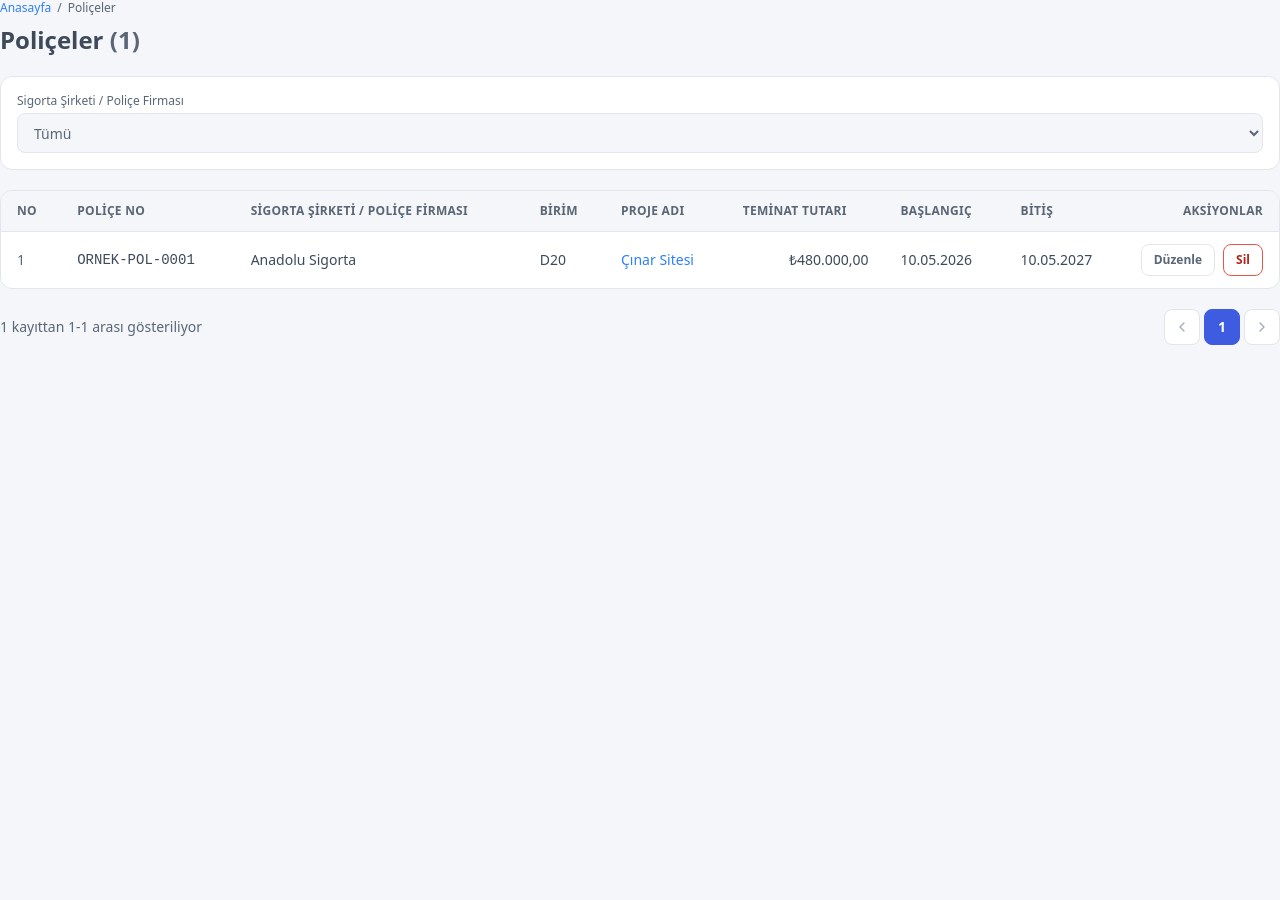
Test: poliçe güncelleme › düzenleme diyaloğunda birim salt okunur, tutar ve tarih düzenlenebilir
Expected: the table is shown, [1,191,1279,288]
Click the button "Düzenle".
click(1178, 260)  # box [1141,244,1215,276]
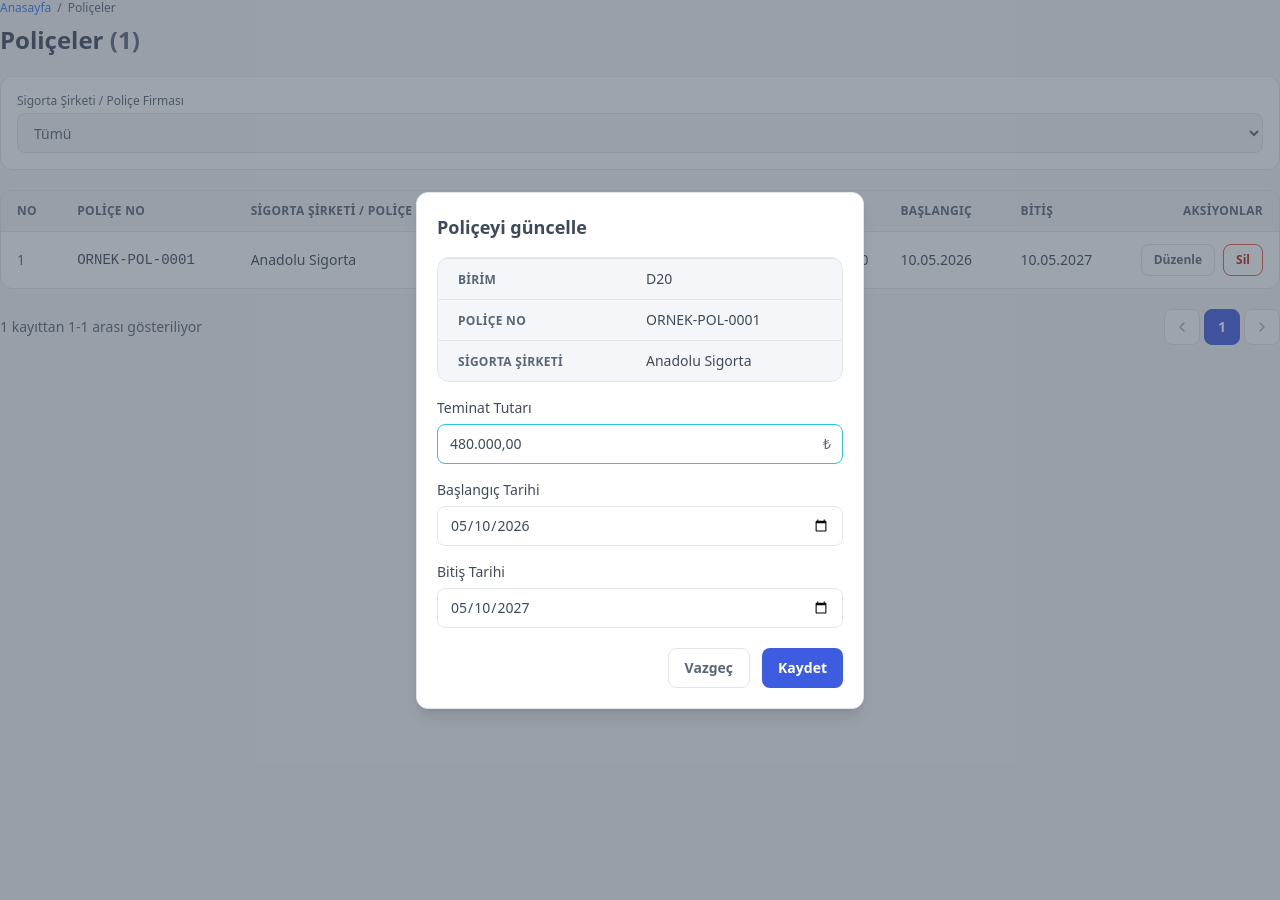
Now the dialog shows "D20", box [646,268,672,288]
Now the field labelled "Teminat Tutarı" is enabled, box [437,424,843,464]
Now the date field labelled "Başlangıç Tarihi" is enabled, box [437,506,843,546]
